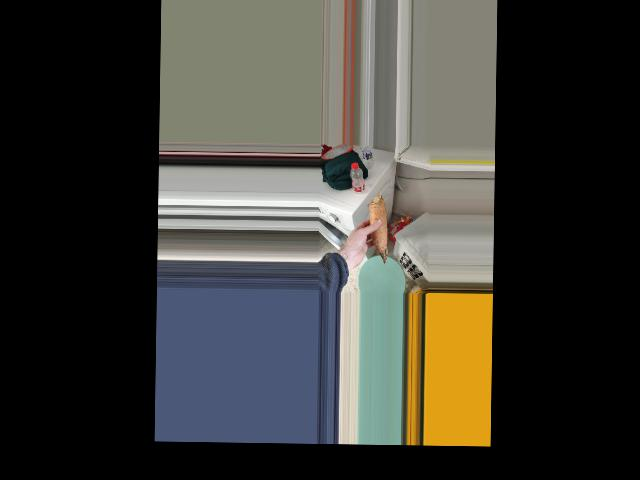sweet_potato: (368, 199, 387, 262)
